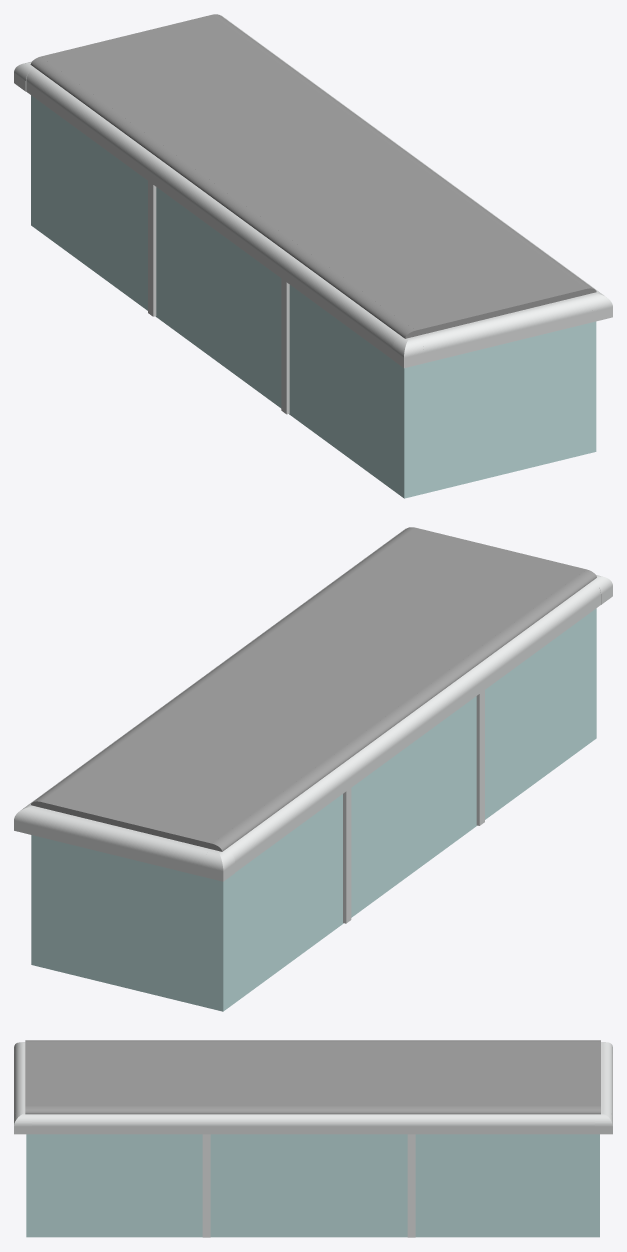
File: Comptoir.fbx
The picture shows the model from 3 angles, top to bottom: view 1: azimuth 30°, elevation 25°; view 2: azimuth 150°, elevation 25°; view 3: azimuth 270°, elevation 25°; orthographic projection. The views are drawn at different scales.
Parts seen in each view (by area): view 1: Cube, Cube.006, Cube.018, Cube.001, Cube.004; view 2: Cube.006, Cube, Cube.018, Cube.004, Cube.001; view 3: Cube, Cube.006, Cube.018, Cube.002, Cube.003.
Boxes of the visible parts, bbox=[...] form: Cube: bbox=[31, 95, 596, 498]; Cube.006: bbox=[30, 14, 596, 338]; Cube.018: bbox=[14, 15, 612, 368]; Cube.001: bbox=[281, 278, 289, 414]; Cube.004: bbox=[148, 181, 156, 316]; Cube.006: bbox=[31, 527, 596, 851]; Cube: bbox=[31, 608, 596, 1011]; Cube.018: bbox=[14, 528, 612, 881]; Cube.004: bbox=[343, 788, 351, 923]; Cube.001: bbox=[476, 690, 484, 825]; Cube: bbox=[26, 1134, 599, 1237]; Cube.006: bbox=[25, 1040, 600, 1114]; Cube.018: bbox=[14, 1042, 612, 1134]; Cube.002: bbox=[407, 1134, 415, 1237]; Cube.003: bbox=[202, 1134, 210, 1237].
Bounding box in the file's own units: 431 × 326 × 1389.
